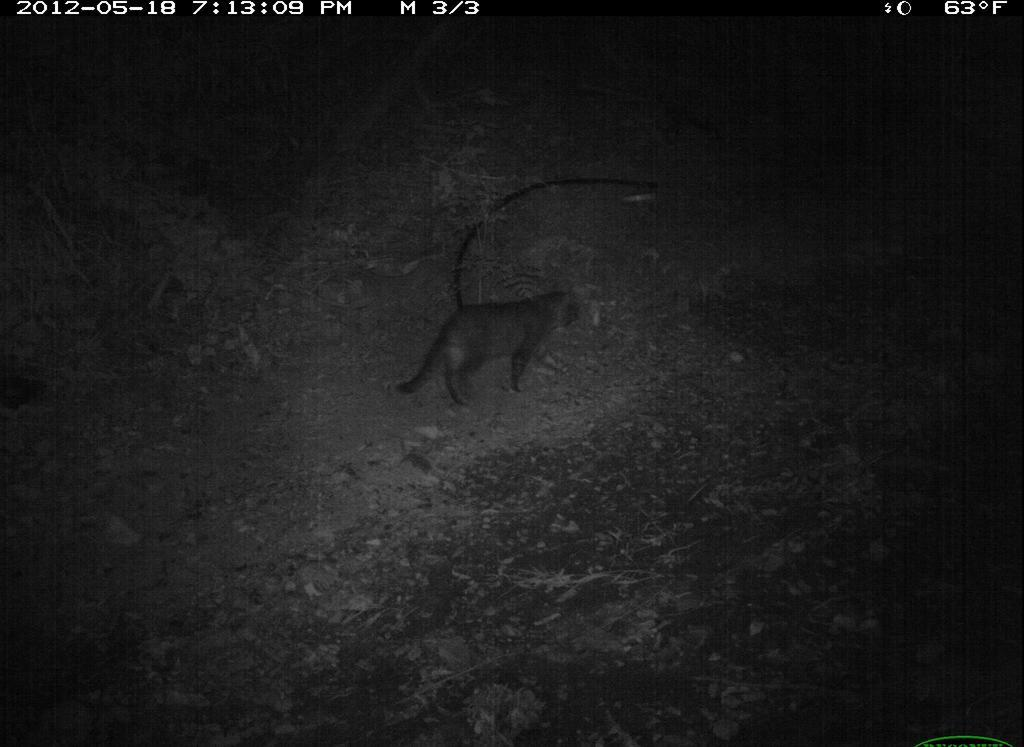cat: (395, 287, 589, 417)
